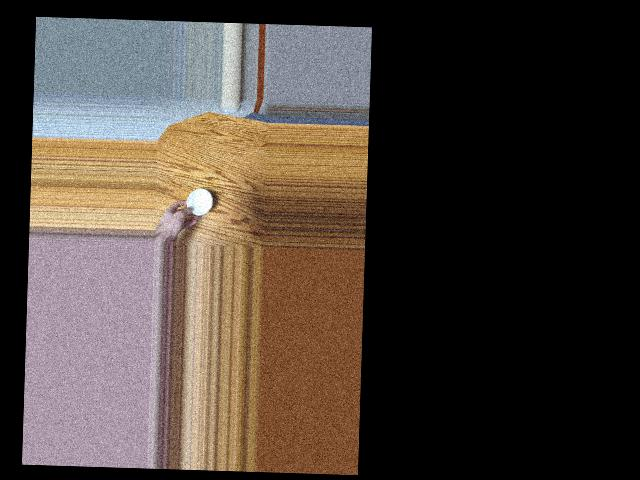cotage: (186, 188, 214, 217)
